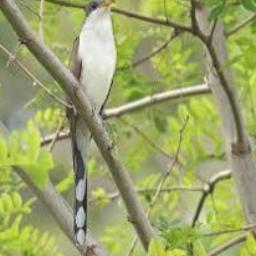Cuckoo: (66, 0, 119, 246)
